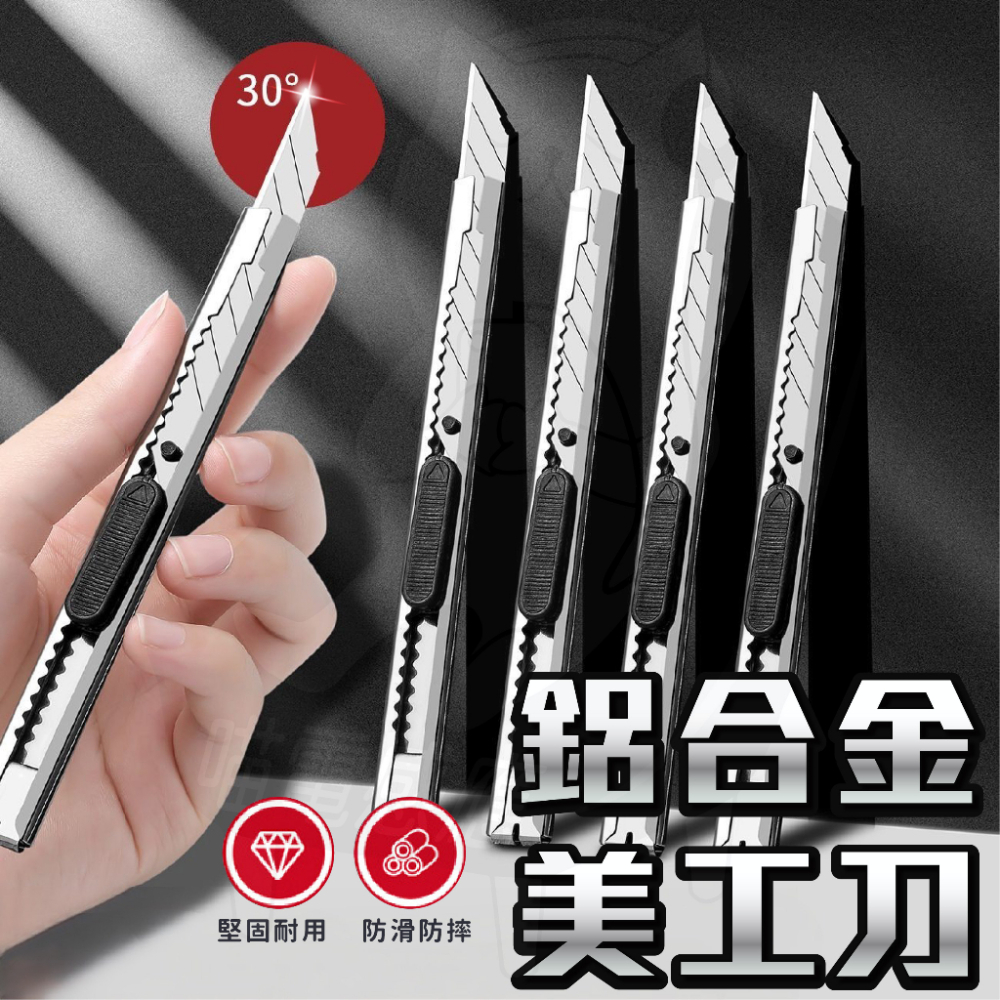cutter: (1, 86, 321, 852), (599, 81, 739, 848), (490, 73, 629, 845), (717, 91, 857, 845), (372, 63, 510, 815)
